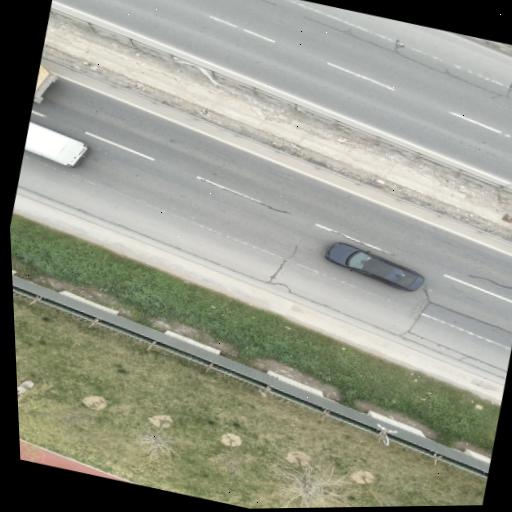car: (324, 243, 423, 291)
truck: (25, 122, 88, 167), (33, 65, 57, 103)
